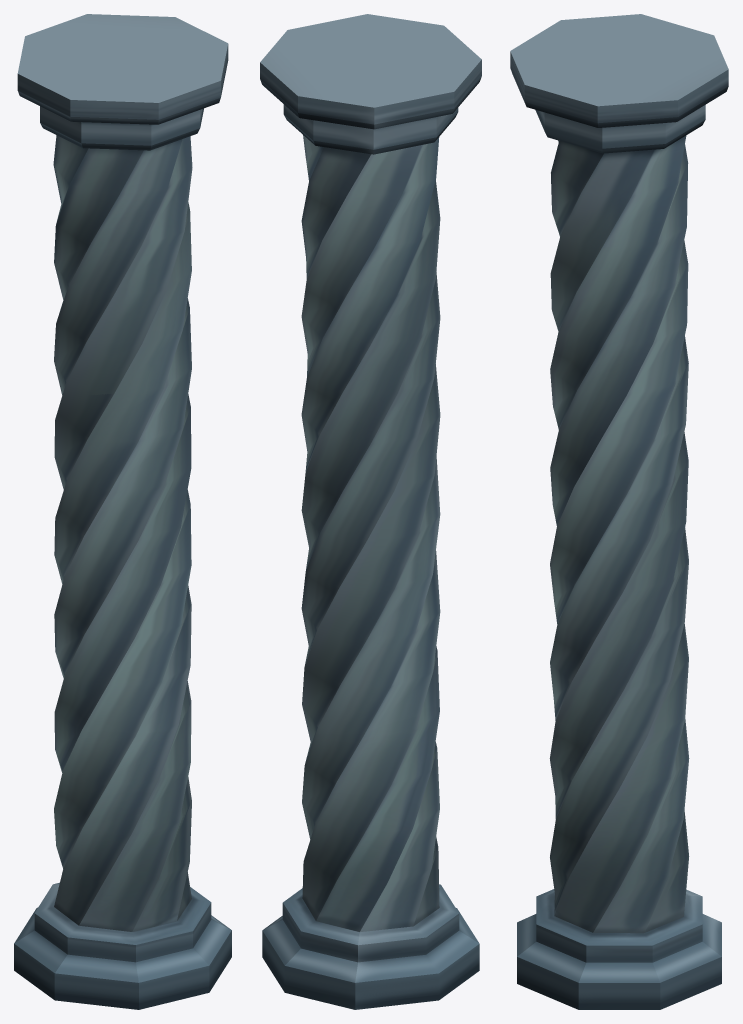
The model's file is column-tall.fbx.
3 renders of one model, left to right at view 1: azimuth 30°, elevation 25°; view 2: azimuth 150°, elevation 25°; view 3: azimuth 270°, elevation 25°, orthographic.
Visible parts, largest first — view 1: collumn-tall; view 2: collumn-tall; view 3: collumn-tall.
Part boxes in pixels (x1,y1,x2,y2): collumn-tall: [14, 14, 231, 1009]; collumn-tall: [260, 14, 481, 1009]; collumn-tall: [510, 14, 728, 1009].
Size of the model in its own units: 213 by 977 by 213.
